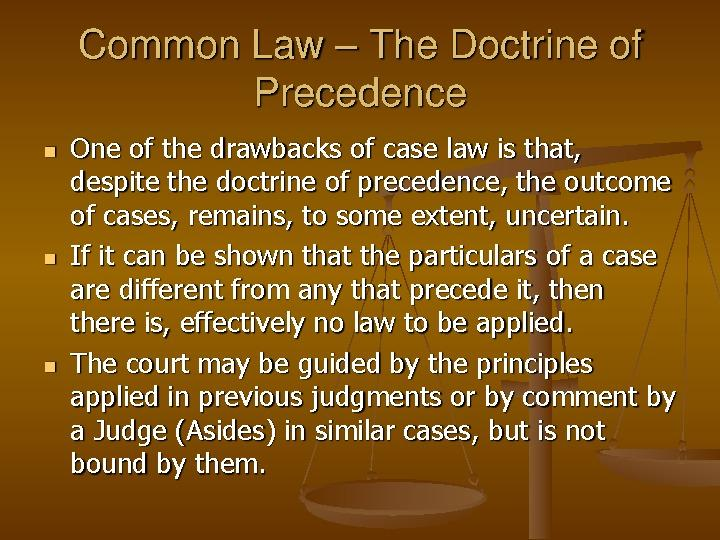paragraph: (63, 120, 699, 490)
title: (62, 9, 666, 123)
